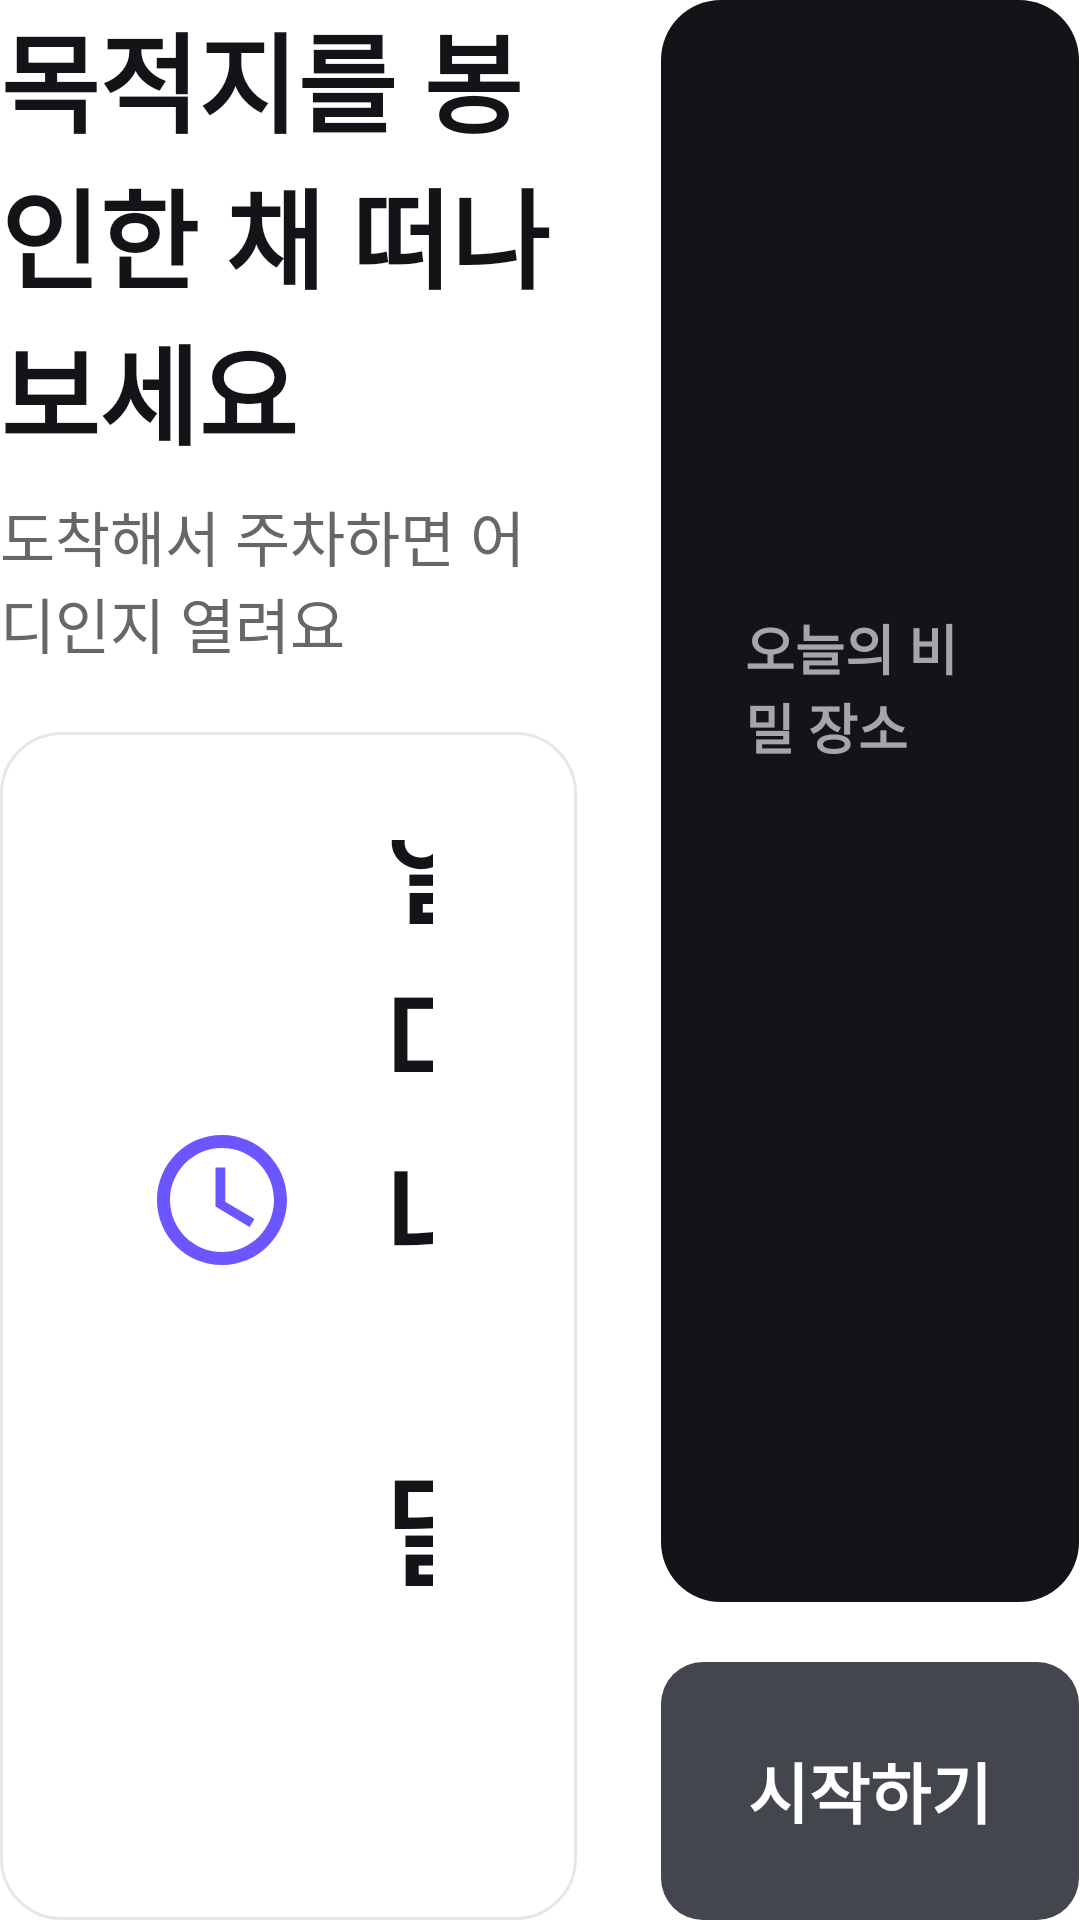

Icon bounding boxes for this 1080 × 1920 phone screenshot, format (x1, y1, x2, y2):
pleos clock: (157, 1135, 287, 1265)
